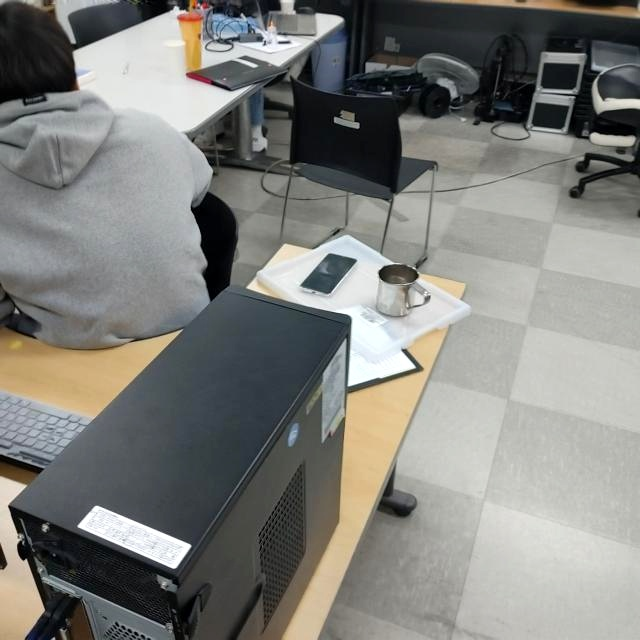cup: (374, 260, 430, 320)
phone: (303, 252, 358, 296)
